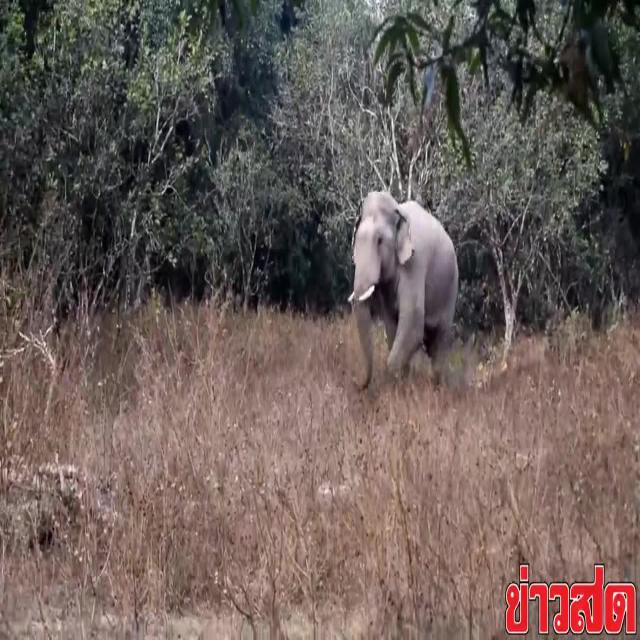Elephant: (331, 161, 480, 446)
